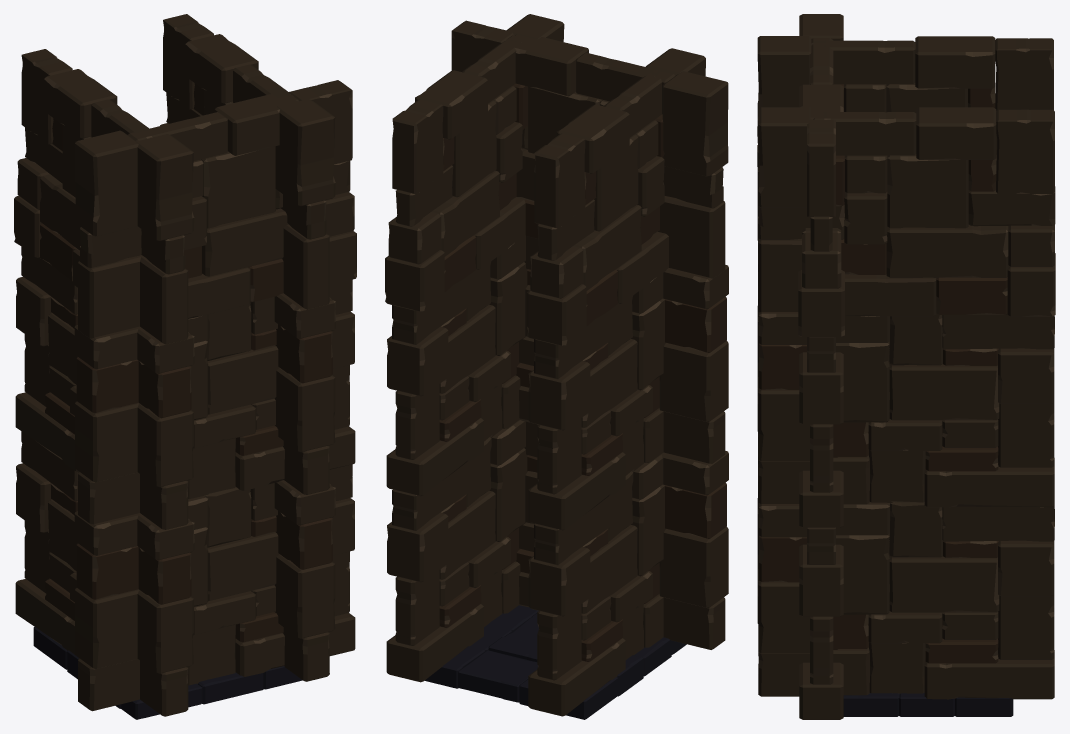
The model's file is quat_end.obj.
3 renders of one model, left to right at view 1: azimuth 30°, elevation 25°; view 2: azimuth 150°, elevation 25°; view 3: azimuth 270°, elevation 25°, orthographic. The views are drawn at different scales.
Parts seen in each view (by area): view 1: Wall_Modular_Cube.004, Wall_Modular_Cube.006_Wall_Modular_Cube.007, Wall_Modular_Cube.005_Wall_Modular_Cube.006, Wall_Modular_Cube.009_Wall_Modular_Cube.010, Wall_Modular_Cube.007_Wall_Modular_Cube.008, Wall_Modular_Cube.008_Wall_Modular_Cube.009, Wall_Modular_Cube.003, Wall_Modular_Cube.001, Wall_Modular_Cube.002, Floor_Modular_Cube.001; view 2: Wall_Modular_Cube.009_Wall_Modular_Cube.010, Wall_Modular_Cube.003, Wall_Modular_Cube.001, Wall_Modular_Cube.007_Wall_Modular_Cube.008, Wall_Modular_Cube.002, Wall_Modular_Cube.004, Wall_Modular_Cube.008_Wall_Modular_Cube.009, Wall_Modular_Cube.006_Wall_Modular_Cube.007, Wall_Modular_Cube.005_Wall_Modular_Cube.006, Floor_Modular_Cube.001; view 3: Wall_Modular_Cube.003, Wall_Modular_Cube.001, Wall_Modular_Cube.002, Wall_Modular_Cube.009_Wall_Modular_Cube.010, Wall_Modular_Cube.004, Wall_Modular_Cube.006_Wall_Modular_Cube.007, Wall_Modular_Cube.005_Wall_Modular_Cube.006, Floor_Modular_Cube.001.
Part boxes in pixels (x1,y1,x2,y2): Wall_Modular_Cube.004: (75, 80, 356, 338); Wall_Modular_Cube.006_Wall_Modular_Cube.007: (74, 464, 355, 711); Wall_Modular_Cube.005_Wall_Modular_Cube.006: (74, 279, 355, 524); Wall_Modular_Cube.009_Wall_Modular_Cube.010: (14, 49, 194, 344); Wall_Modular_Cube.007_Wall_Modular_Cube.008: (15, 431, 194, 716); Wall_Modular_Cube.008_Wall_Modular_Cube.009: (15, 246, 194, 529); Wall_Modular_Cube.003: (160, 14, 335, 309); Wall_Modular_Cube.001: (274, 480, 335, 681); Wall_Modular_Cube.002: (274, 293, 335, 494); Floor_Modular_Cube.001: (33, 627, 302, 719); Wall_Modular_Cube.009_Wall_Modular_Cube.010: (527, 48, 705, 346); Wall_Modular_Cube.003: (385, 14, 564, 311); Wall_Modular_Cube.001: (386, 420, 528, 682); Wall_Modular_Cube.007_Wall_Modular_Cube.008: (528, 454, 665, 716); Wall_Modular_Cube.002: (386, 236, 528, 496); Wall_Modular_Cube.004: (451, 20, 728, 278); Wall_Modular_Cube.008_Wall_Modular_Cube.009: (528, 273, 665, 530); Wall_Modular_Cube.006_Wall_Modular_Cube.007: (515, 421, 728, 649); Wall_Modular_Cube.005_Wall_Modular_Cube.006: (515, 236, 728, 463); Floor_Modular_Cube.001: (424, 605, 686, 719); Wall_Modular_Cube.003: (758, 107, 1055, 316); Wall_Modular_Cube.001: (758, 502, 1054, 699); Wall_Modular_Cube.002: (758, 312, 1054, 507); Wall_Modular_Cube.009_Wall_Modular_Cube.010: (757, 36, 1053, 240); Wall_Modular_Cube.004: (798, 14, 844, 337); Wall_Modular_Cube.006_Wall_Modular_Cube.007: (799, 527, 843, 719); Wall_Modular_Cube.005_Wall_Modular_Cube.006: (799, 337, 843, 527); Floor_Modular_Cube.001: (843, 693, 1013, 716).
Bounding box in the file's own units: 2.93 × 6.15 × 2.79.
